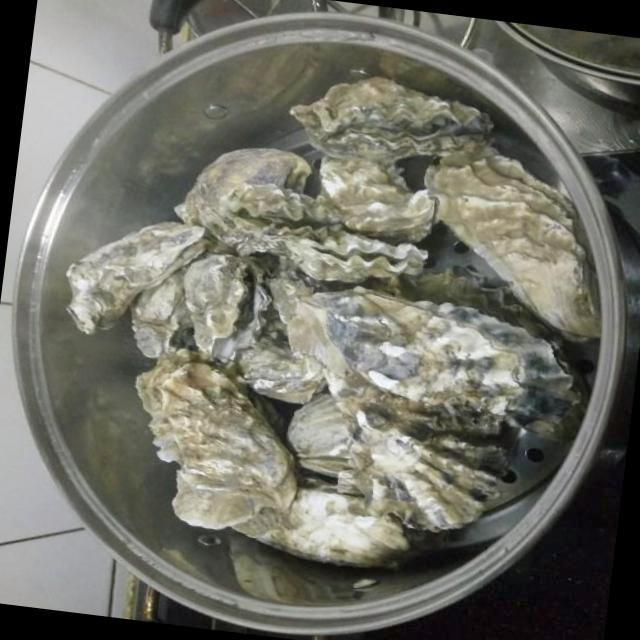Oyster-Closed: (272, 282, 576, 428), (423, 153, 599, 341), (130, 352, 298, 530), (355, 414, 517, 528), (290, 76, 496, 160), (67, 221, 206, 335), (230, 484, 408, 566), (175, 146, 311, 228), (320, 158, 434, 232), (130, 268, 190, 356)
Oyster-Open: (182, 256, 268, 364), (284, 230, 430, 286), (219, 184, 345, 244)
